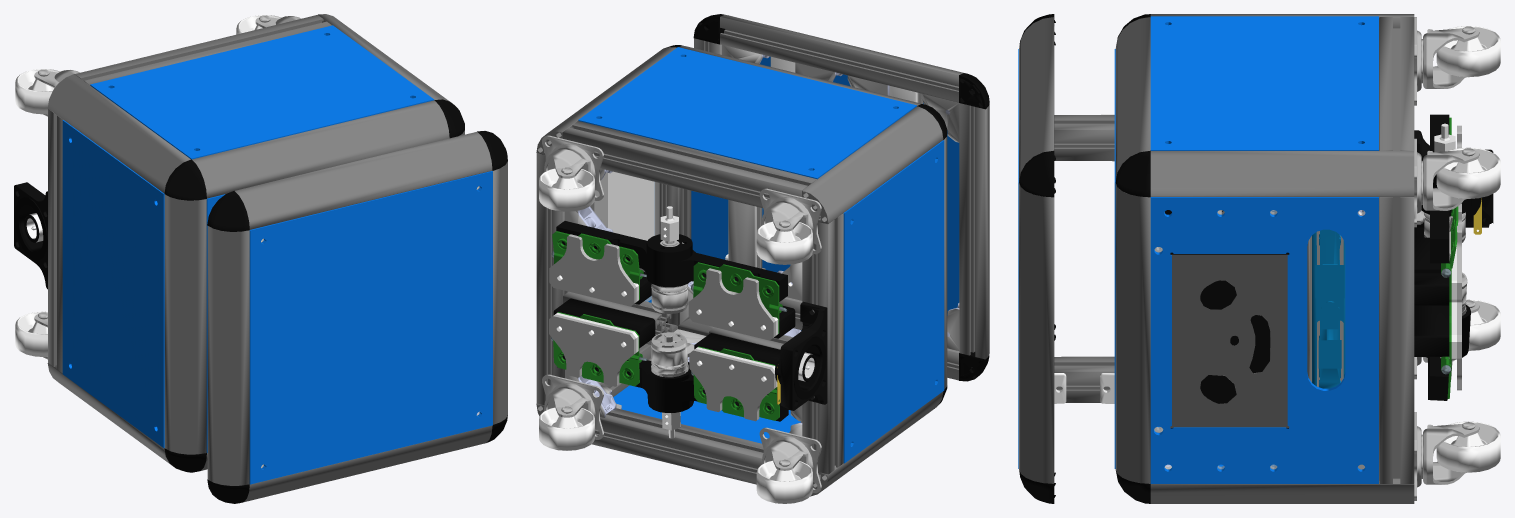
The model's file is cube_petit_v2_body.obj.
The picture shows the model from 3 angles, left to right: view 1: azimuth 30°, elevation 25°; view 2: azimuth 150°, elevation 25°; view 3: azimuth 270°, elevation 25°; orthographic projection. The views are drawn at different scales.
Parts seen in each view (by area): view 1: Solid1; view 2: Solid1; view 3: Solid1.
Part boxes in pixels (<box>): Solid1: <box>14,14,507,503</box>; Solid1: <box>536,14,989,503</box>; Solid1: <box>1018,14,1500,503</box>.
Size of the model in its own units: 0.226 by 0.221 by 0.2748.
